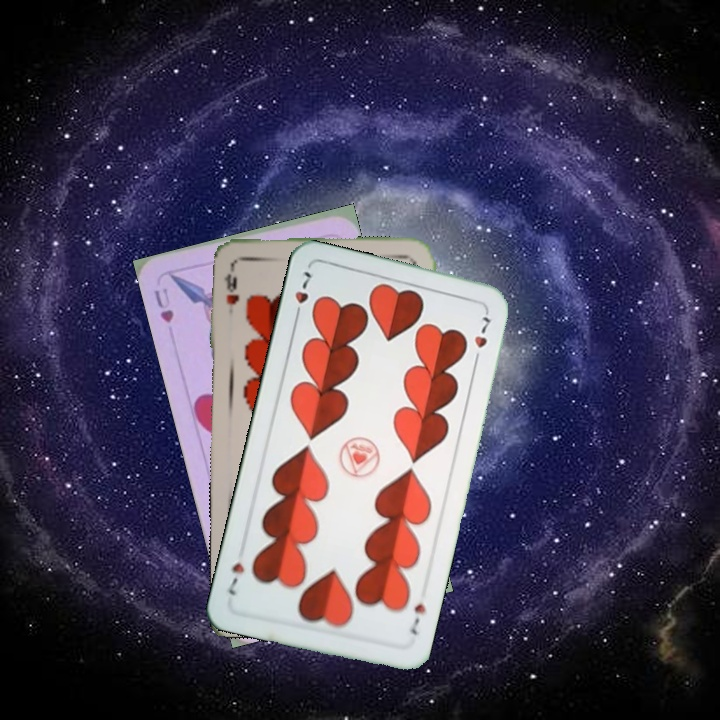H7: (290, 267, 315, 323), (405, 599, 428, 638)
H9: (220, 262, 242, 317)
HU: (150, 284, 176, 326)
